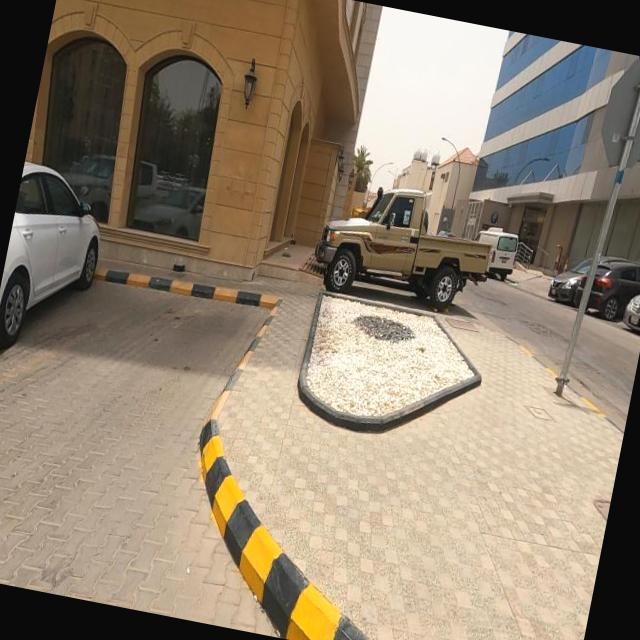debris: (150, 240, 212, 300), (264, 231, 306, 276)
